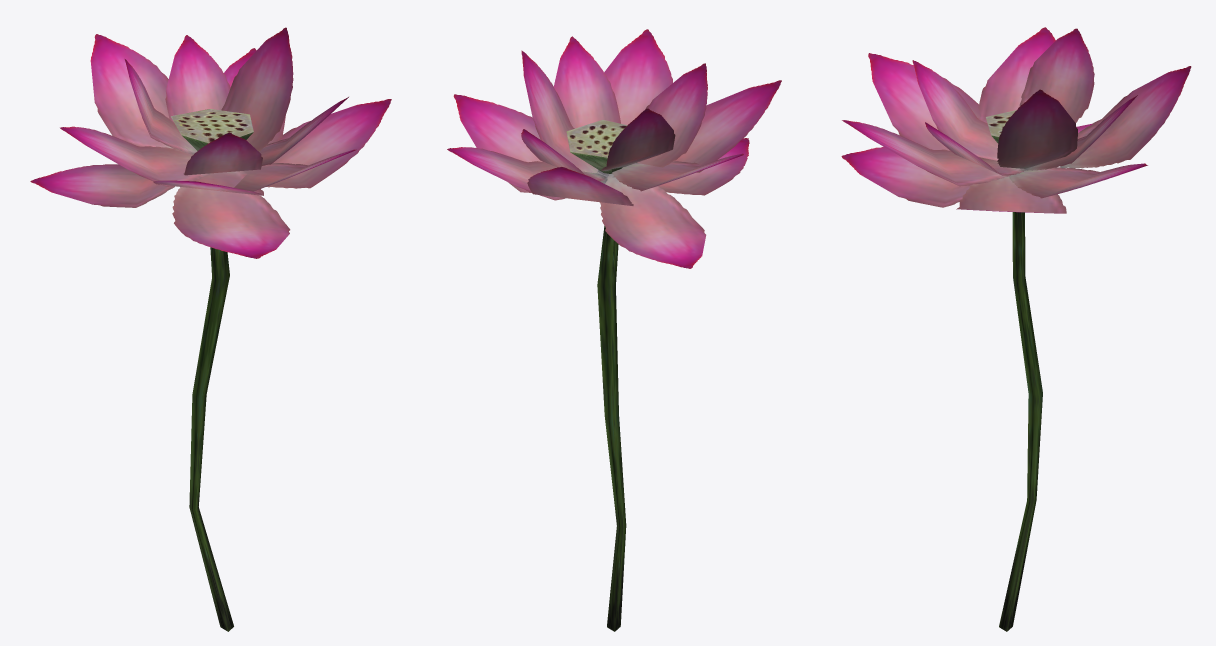
File: wm_灌木荷花04.fbx
3 renders of one model, left to right at view 1: azimuth 30°, elevation 25°; view 2: azimuth 150°, elevation 25°; view 3: azimuth 270°, elevation 25°, orthographic.
Parts seen in each view (by area): view 1: wm_灌木荷花04; view 2: wm_灌木荷花04; view 3: wm_灌木荷花04.
Part boxes in pixels (x1,y1,x2,y2): wm_灌木荷花04: (30,27,391,631); wm_灌木荷花04: (447,29,781,631); wm_灌木荷花04: (841,27,1191,631).
Size of the model in its own units: 103 by 170 by 99.01.
